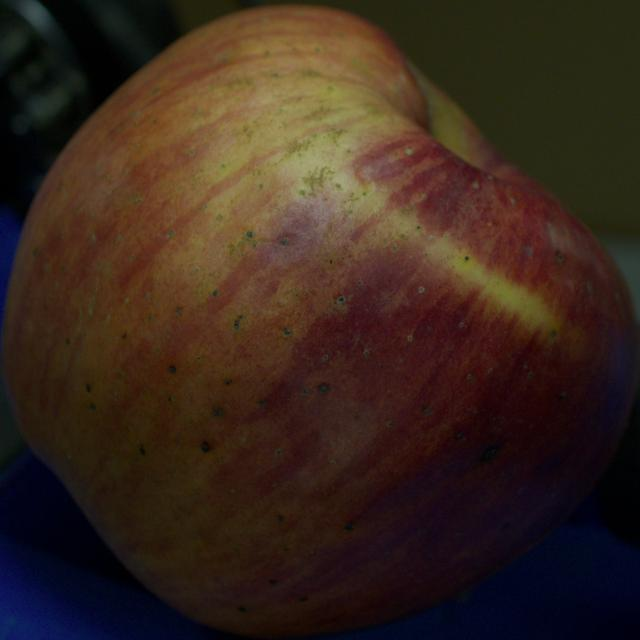apple: (2, 6, 639, 637)
pest: (481, 445, 499, 460), (318, 382, 329, 393), (201, 442, 210, 452), (212, 408, 222, 417), (345, 523, 354, 530), (280, 238, 288, 245), (139, 444, 144, 454), (246, 231, 253, 238), (86, 383, 91, 392), (234, 320, 239, 329), (283, 329, 290, 335), (169, 366, 175, 372), (338, 296, 344, 302), (175, 308, 181, 314), (464, 256, 469, 260)
